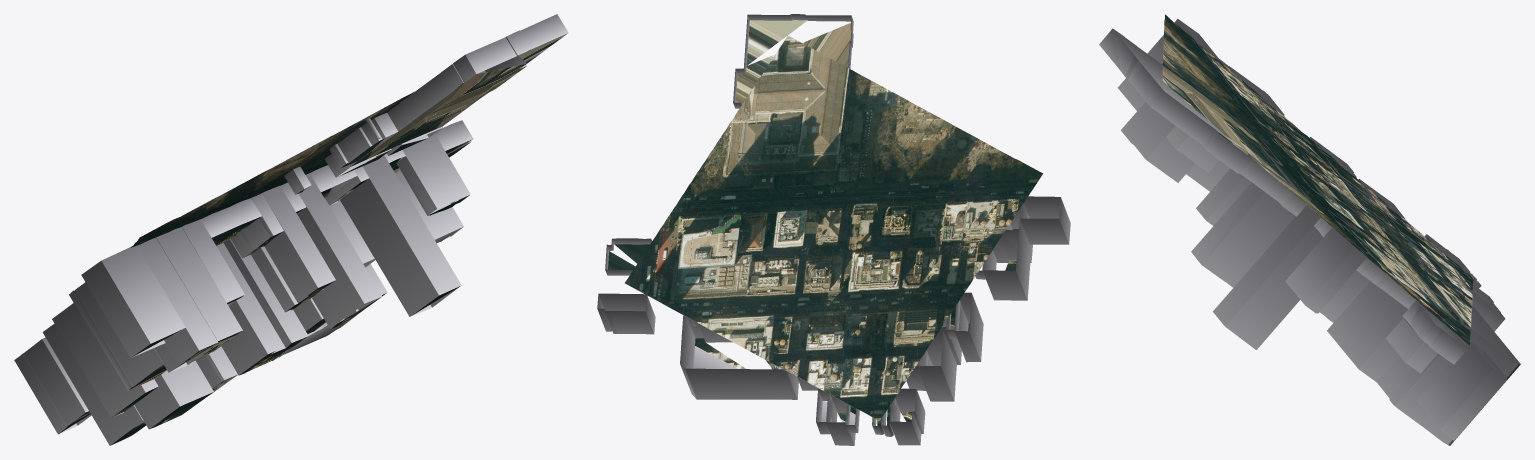
3 renders of one model, left to right at view 1: azimuth 30°, elevation 25°; view 2: azimuth 150°, elevation 25°; view 3: azimuth 270°, elevation 25°, orthographic. The views are drawn at different scales.
Bounding box in the file's own units: 317 × 260 × 238.
Materials: 1 (1 with a texture image).
